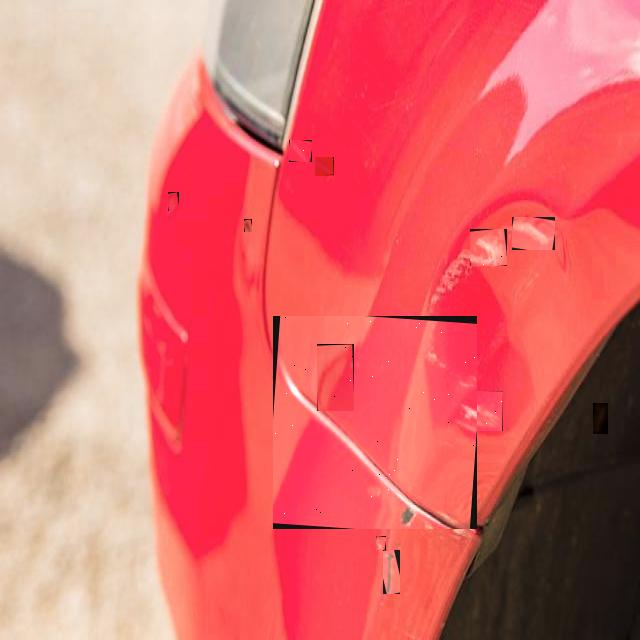Dent: (273, 316, 477, 529), (317, 344, 354, 411), (420, 338, 476, 378), (452, 391, 503, 431), (512, 217, 555, 250), (470, 229, 507, 266), (383, 550, 400, 594), (289, 140, 312, 162), (593, 403, 608, 434), (315, 158, 334, 178), (407, 501, 421, 519), (372, 480, 388, 495), (168, 192, 179, 211), (376, 536, 386, 550), (244, 219, 252, 232)
